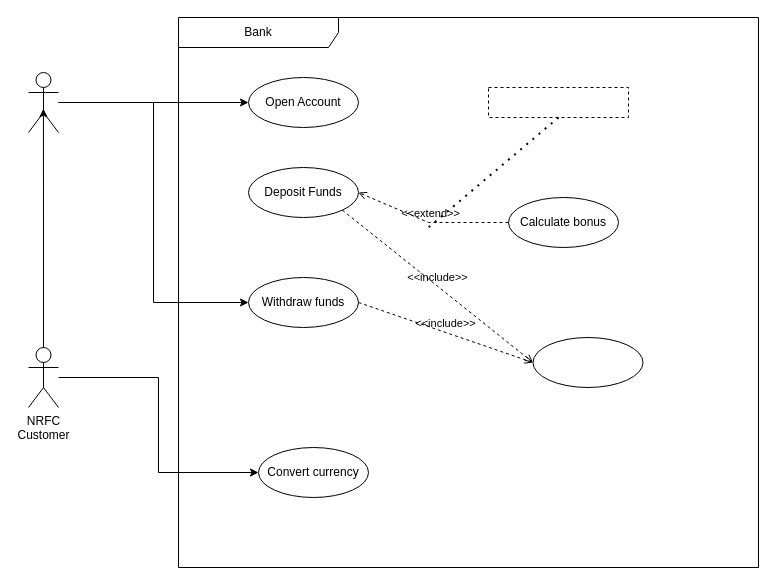
Some shapes in this 776 by 585 pixel diagram are drawn without their labels. Each missing label, with the centre of its shape:
Ammount over $10k: point 558,102
Customer: point 43,102
Update account balancce: point 587,362
